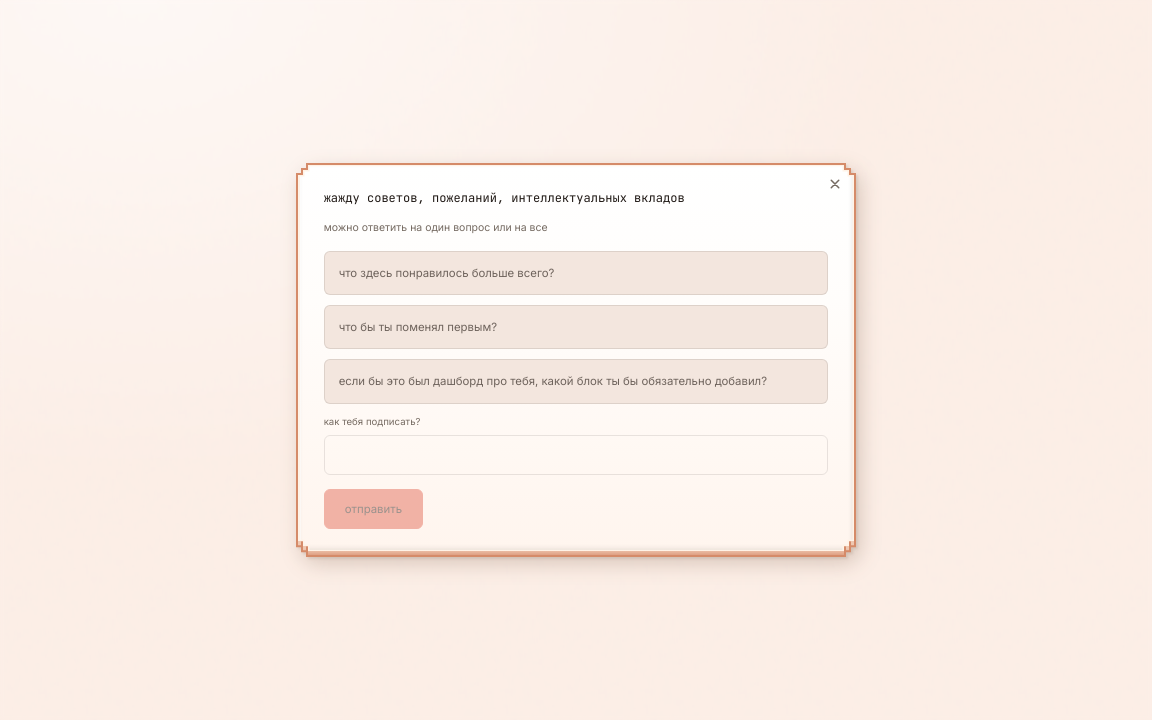
FeedbackModal — a note to the author (§5.19) › after success the form is replaced by a confirmation
Click the button "что здесь понравилось больше всего?".
click(446, 273)  # box [324,251,828,295]
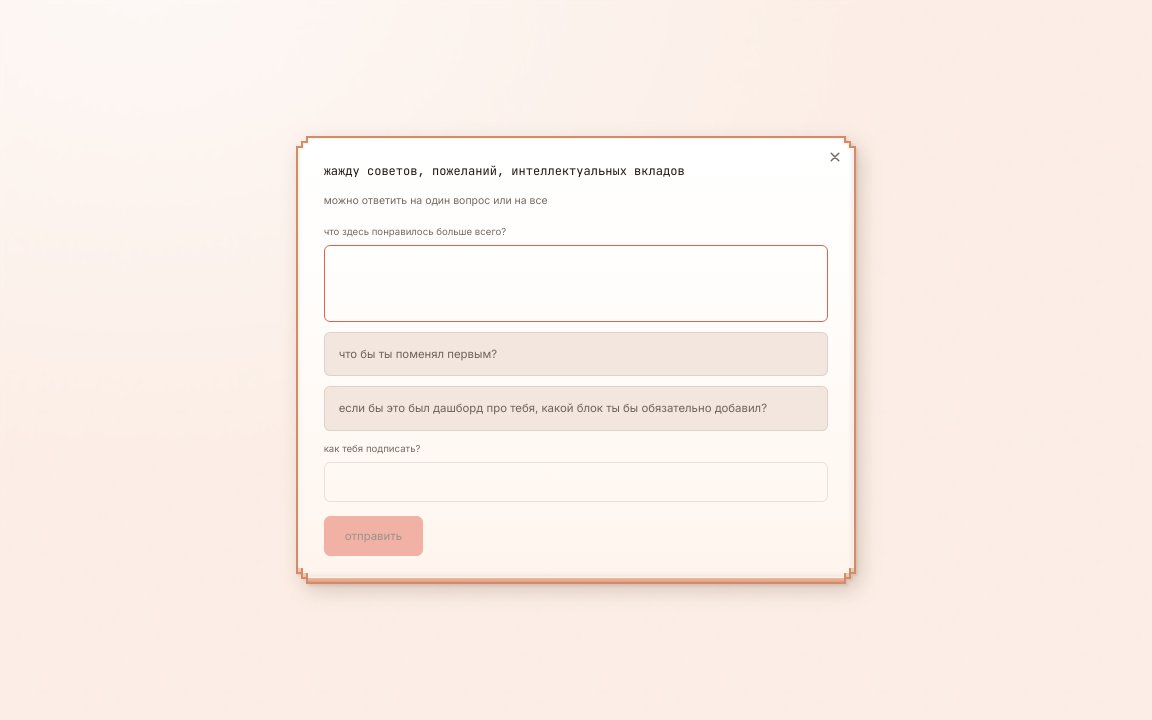
Type "всё" into the text box labelled "что здесь понравилось больше всего?".
click(576, 284); type("всё")  # box [324,246,828,322]
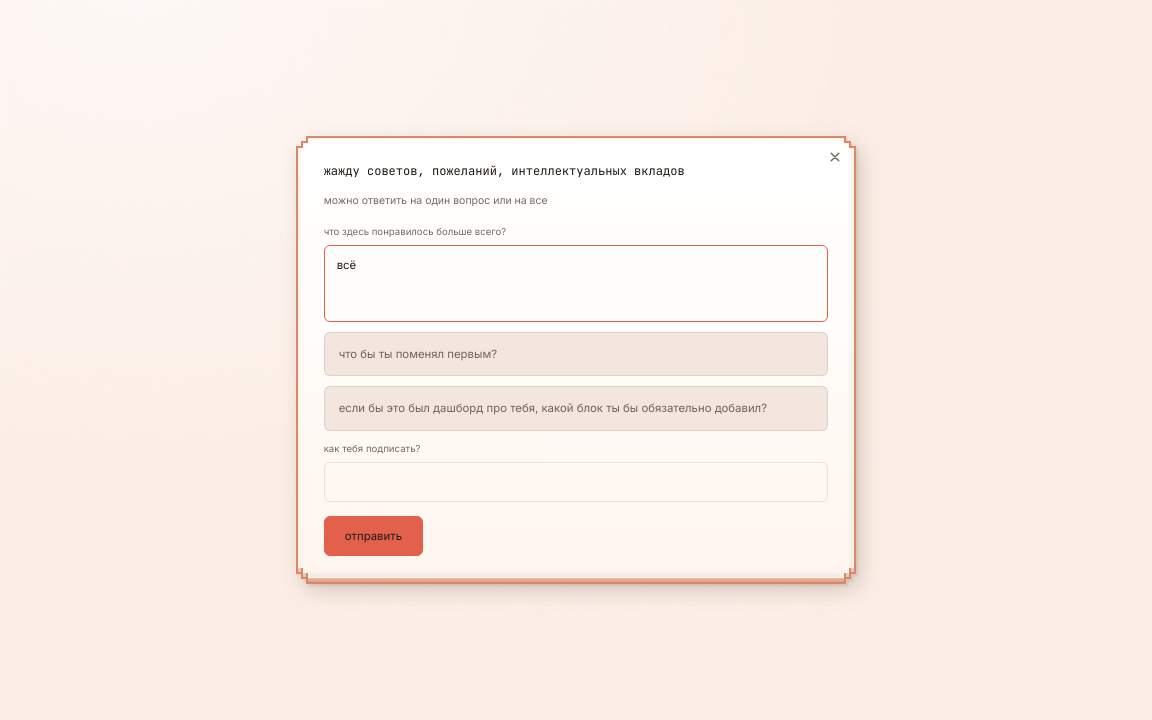
Click the button "отправить".
click(373, 536)  # box [324,516,423,556]
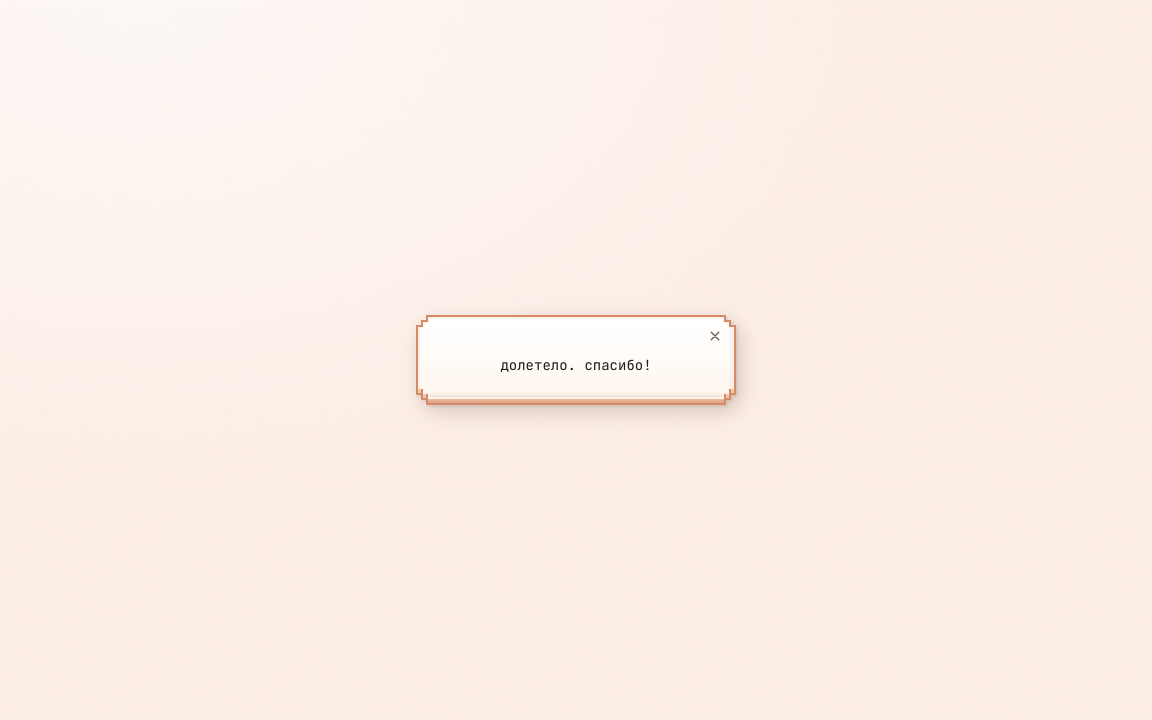
Expected: the text "долетело. спасибо!" is shown, [500,356,652,374]
Expected: the button "отправить" is gone
